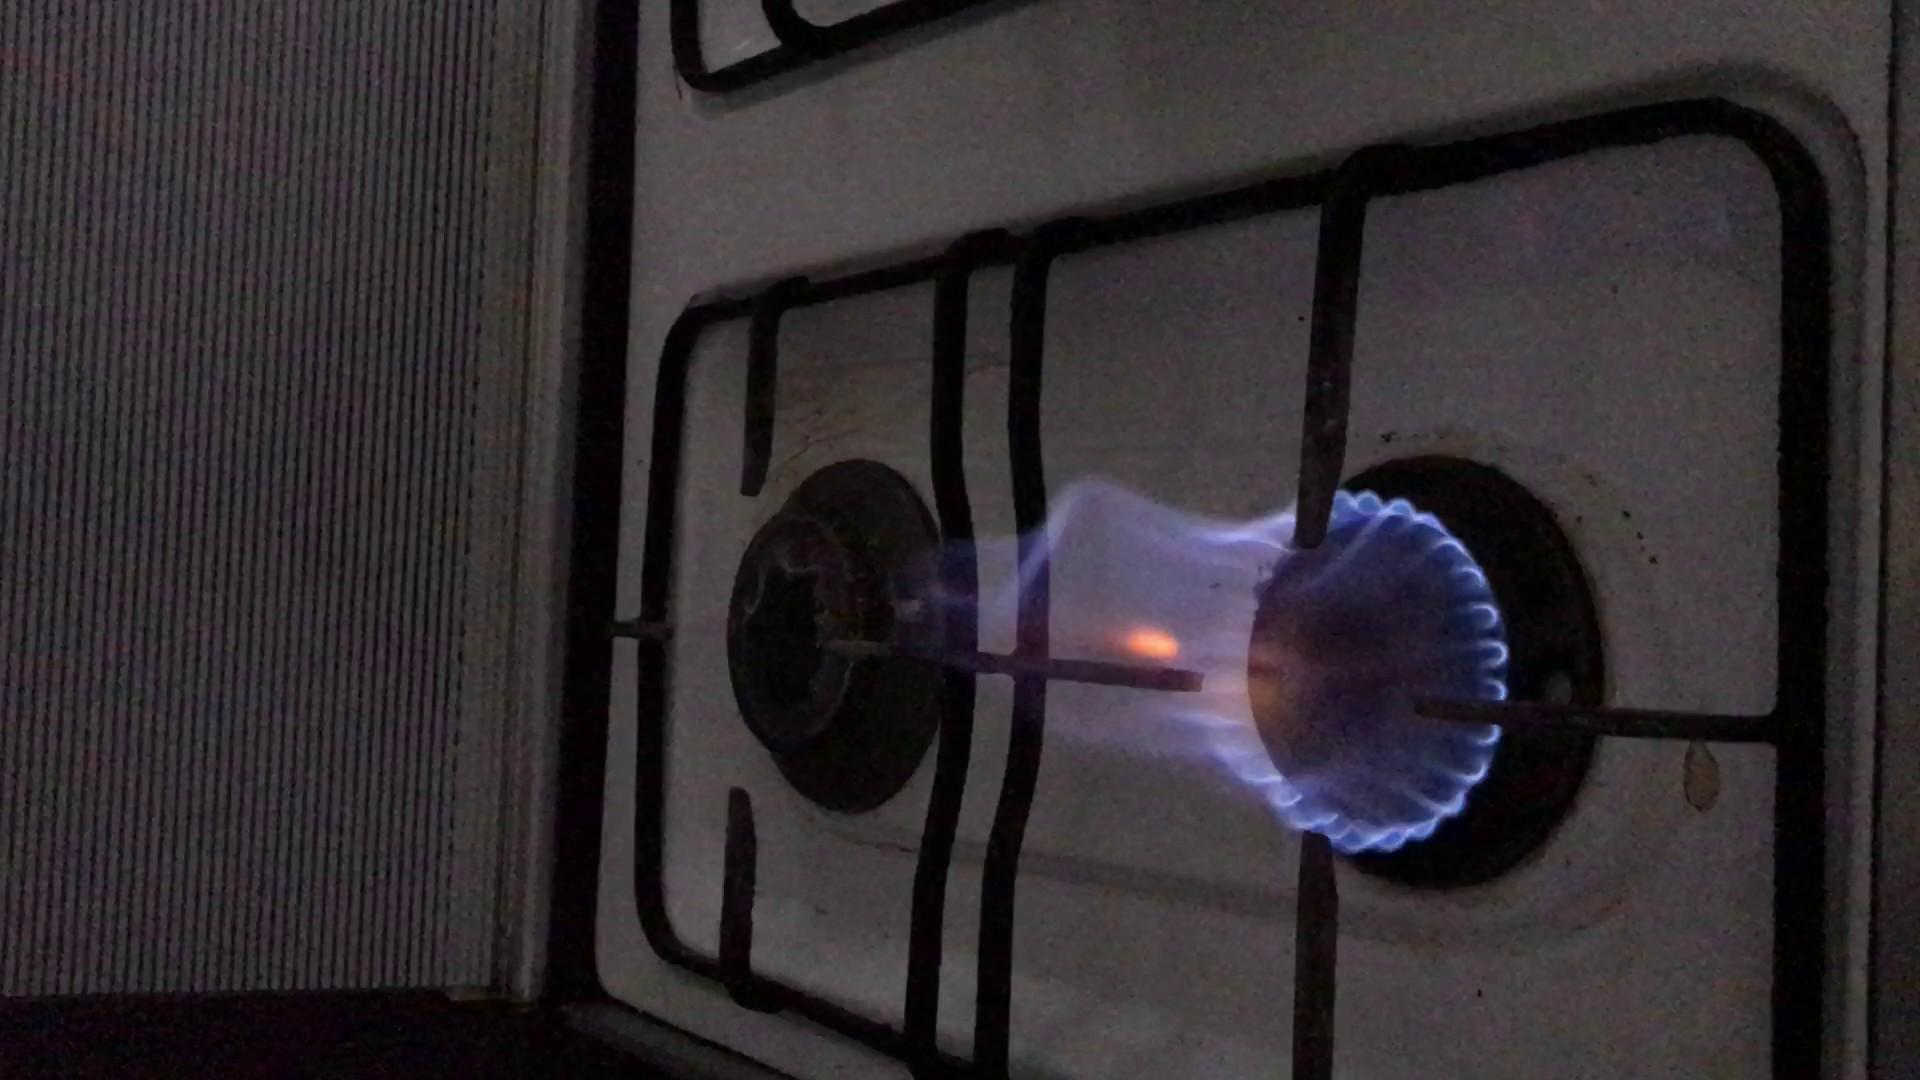fire: (895, 460, 1513, 851)
